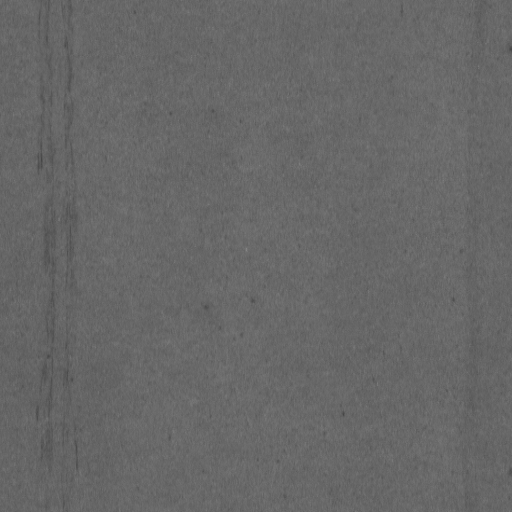zongxianghuashang: (59, 1, 81, 487), (36, 2, 54, 502)
